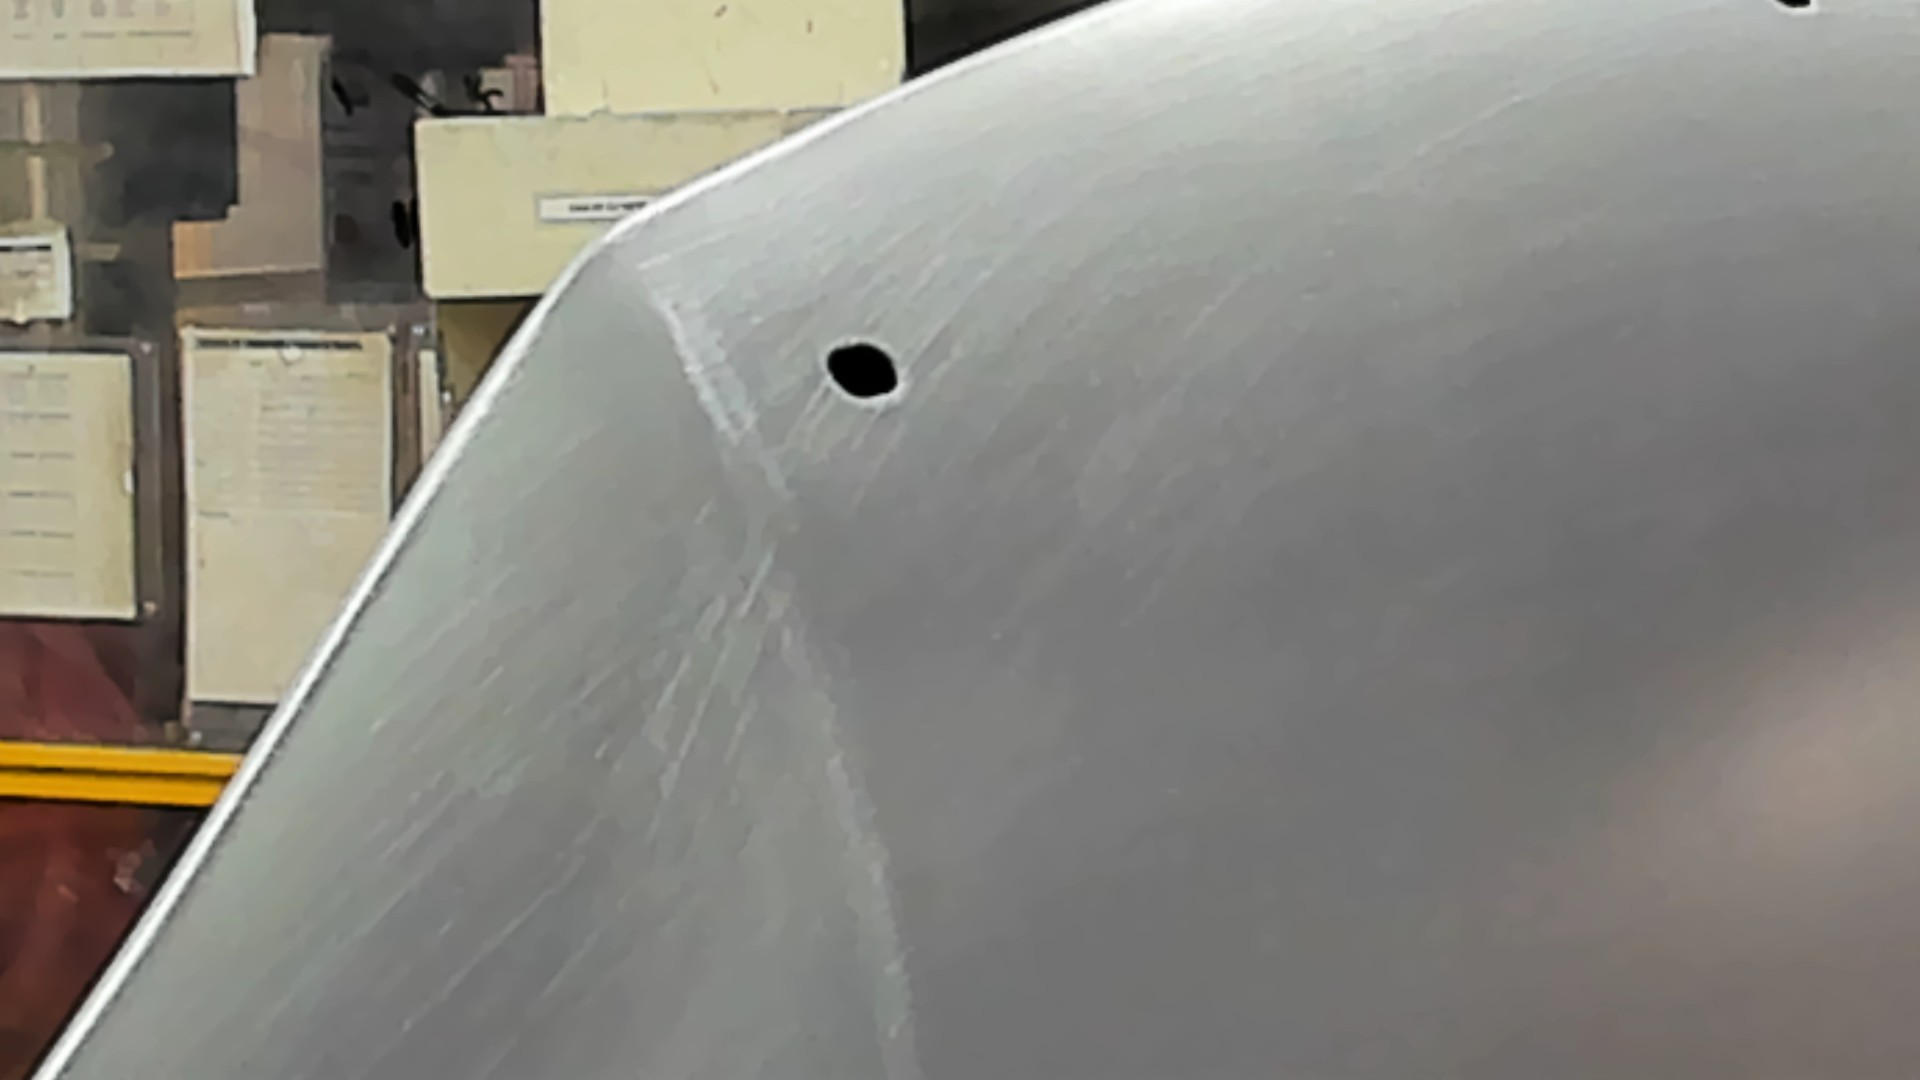amorfo: (818, 338, 906, 410), (1764, 1, 1825, 18)
